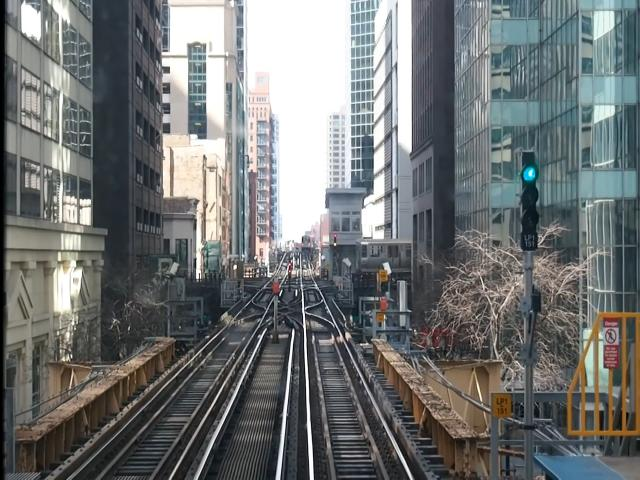signal light: (518, 149, 544, 258)
